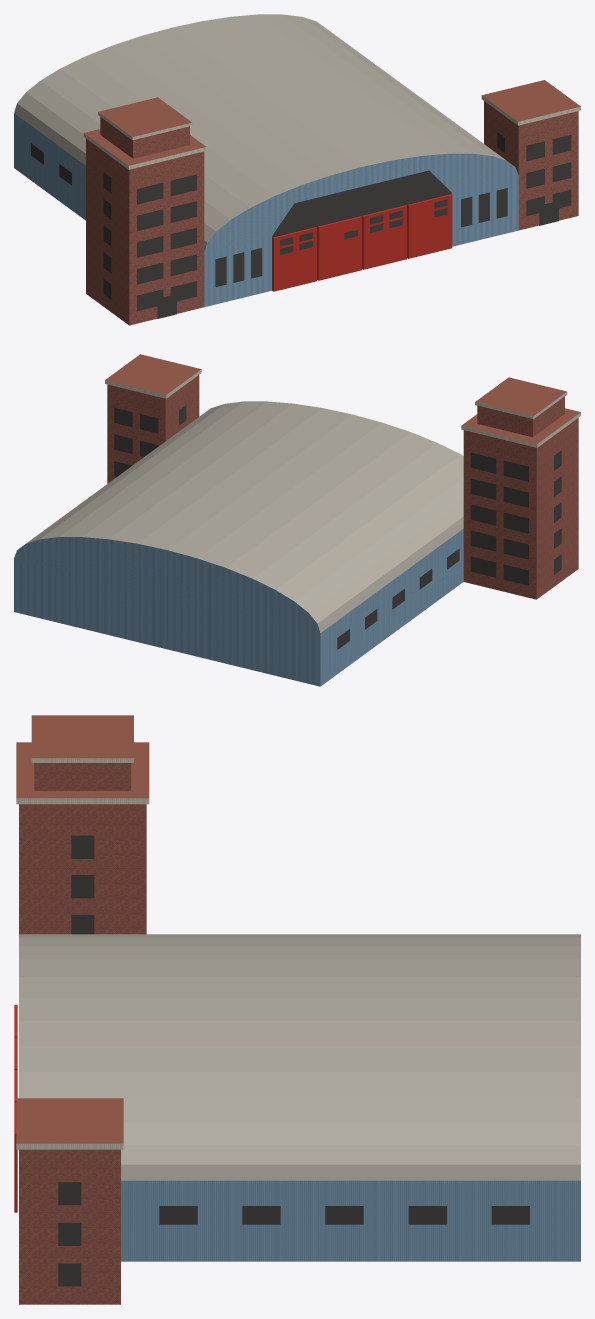
File: cyxd_hangar_1938_landmark_lod1.gltf
3 renders of one model, top to bottom at view 1: azimuth 30°, elevation 25°; view 2: azimuth 150°, elevation 25°; view 3: azimuth 270°, elevation 25°, orthographic. The views are drawn at different scales.
Parts seen in each view (by area): view 1: cyxd_hangar_1938_landmark; view 2: cyxd_hangar_1938_landmark; view 3: cyxd_hangar_1938_landmark.
Part boxes in pixels (bbox=[...]): cyxd_hangar_1938_landmark: bbox=[14, 14, 580, 325]; cyxd_hangar_1938_landmark: bbox=[14, 354, 580, 686]; cyxd_hangar_1938_landmark: bbox=[14, 715, 580, 1304].
Bounding box in the file's own units: 60.4 × 23.4 × 44.38.
